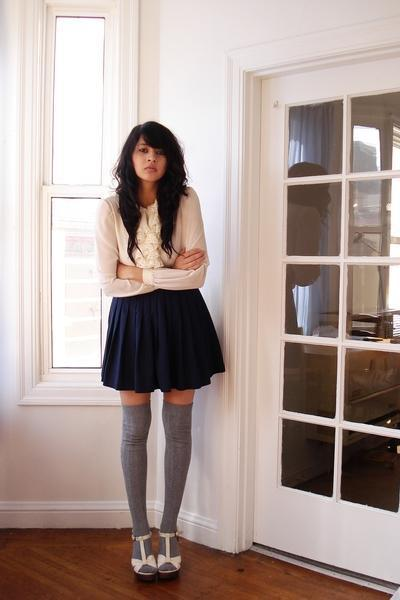shirt: (98, 187, 207, 299)
shoe: (131, 540, 180, 574)
skirt: (100, 288, 224, 398)
